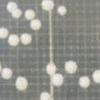white: (14, 75, 30, 93), (63, 58, 79, 76), (51, 71, 65, 88), (19, 31, 33, 46), (78, 75, 91, 91), (7, 33, 20, 48), (29, 17, 42, 32), (5, 0, 19, 13), (23, 7, 36, 21), (41, 0, 55, 13), (55, 4, 69, 17), (1, 67, 14, 81), (45, 61, 57, 76), (0, 26, 11, 41), (37, 89, 52, 100), (91, 67, 100, 85), (11, 8, 23, 20), (0, 64, 3, 75)
